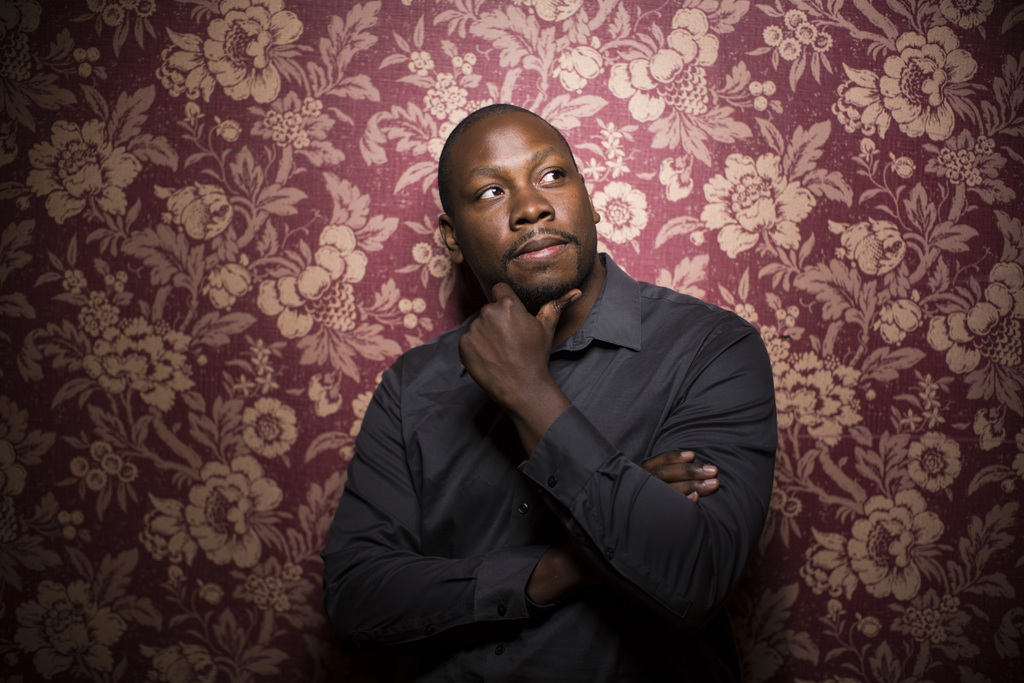Human_hand: (454, 283, 583, 444), (566, 450, 723, 580)
